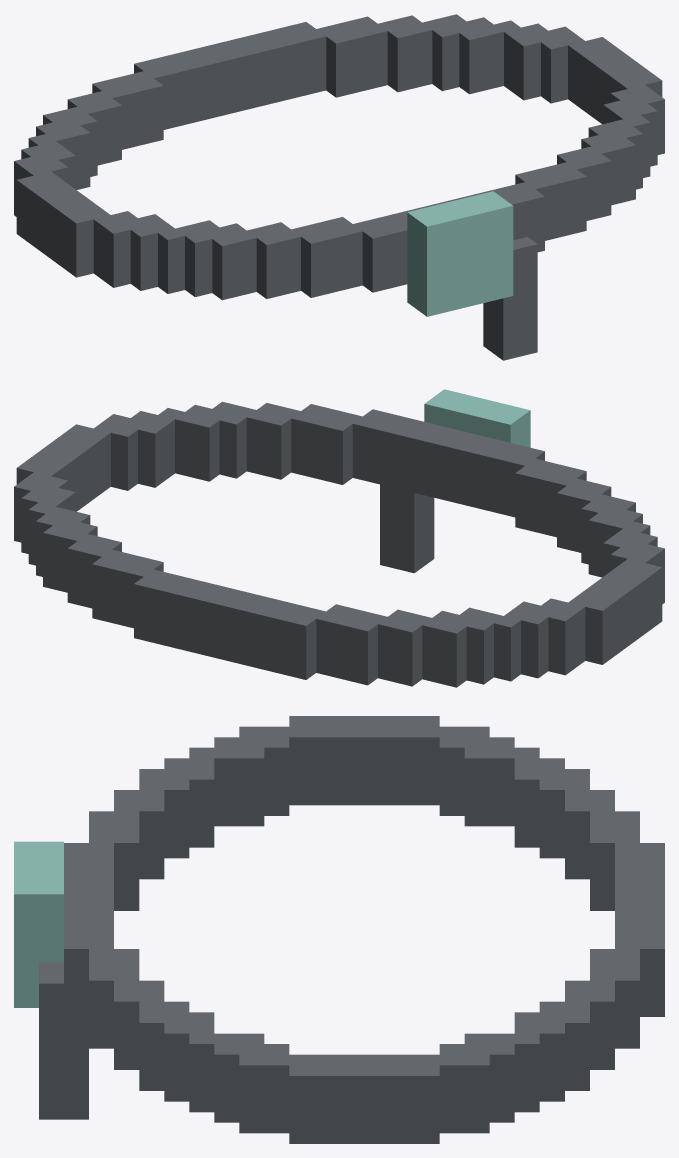
The model's file is mystic_uncommon_belt.glb.
3 views of the same model, one above another, from view 1: azimuth 30°, elevation 25°; view 2: azimuth 150°, elevation 25°; view 3: azimuth 270°, elevation 25° (orthographic). The views are drawn at different scales.
Parts seen in each view (by area): view 1: mystic_uncommon_belt; view 2: mystic_uncommon_belt; view 3: mystic_uncommon_belt.
Part boxes in pixels (box(x1,y1,x2,y2)): mystic_uncommon_belt: box(14, 14, 664, 360); mystic_uncommon_belt: box(14, 389, 664, 687); mystic_uncommon_belt: box(14, 716, 664, 1143).
Bounding box in the file's own units: 0.408 × 0.108 × 0.312.
